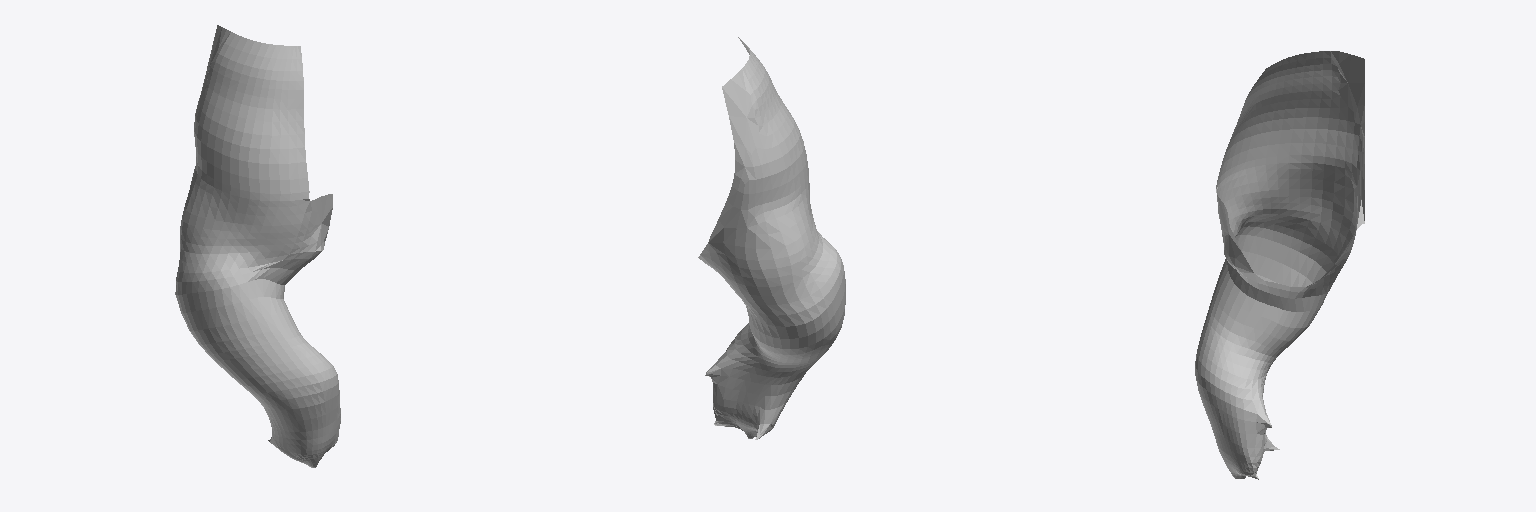
File: rarm.obj
3 renders of one model, left to right at view 1: azimuth 30°, elevation 25°; view 2: azimuth 150°, elevation 25°; view 3: azimuth 270°, elevation 25°, orthographic.
Visible parts, largest first — view 1: ???; view 2: ???; view 3: ???.
Boxes of the visible parts, x1,y1,x2,y2 form: ???: [175, 25, 340, 467]; ???: [698, 37, 845, 439]; ???: [1195, 51, 1364, 479].
Bounding box in the file's own units: 11.96 × 34.07 × 12.73.